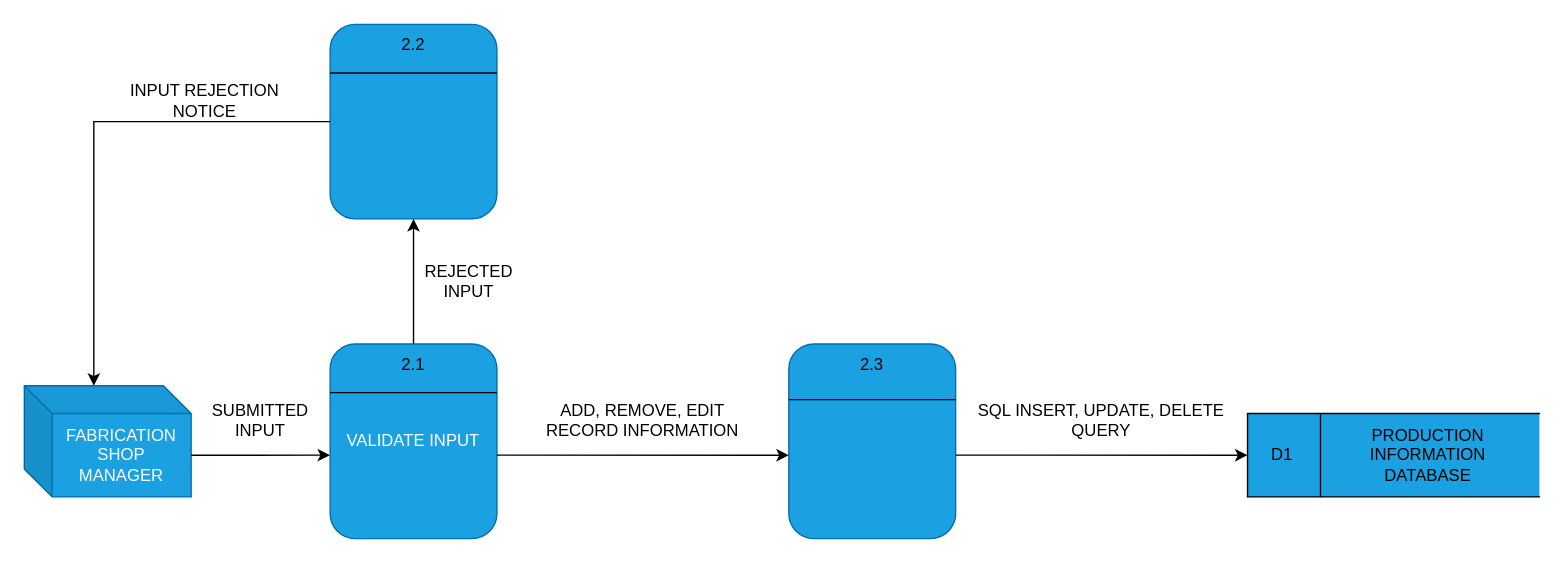
Some shapes in this 1564 by 563 pixel diagram are drawn without their labels. Each missing label, with the box of its shape:
RECEIVE, ADD, REMOVE, EDIT, RECORD INFORMATION: (787, 343, 956, 539)
REJECT INPUT: (329, 23, 497, 219)
